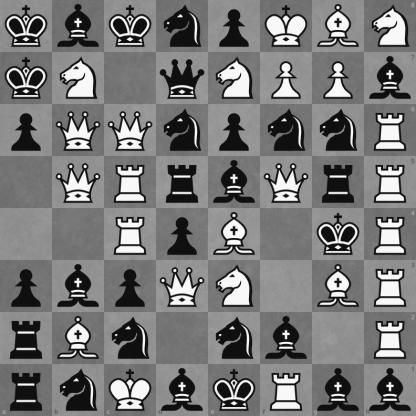B: (53, 313, 104, 364), (209, 209, 260, 260), (313, 1, 364, 52), (313, 261, 364, 312)
K: (104, 364, 156, 416), (261, 1, 312, 52)
N: (364, 0, 416, 52), (53, 53, 104, 104), (209, 53, 260, 104), (209, 261, 260, 312)
P: (261, 53, 312, 104), (313, 53, 364, 104)
Q: (53, 105, 104, 156), (53, 157, 104, 208), (105, 105, 156, 156), (157, 261, 208, 312), (261, 157, 312, 208)
R: (364, 156, 416, 209), (260, 364, 312, 416), (364, 104, 416, 156), (364, 260, 416, 312), (364, 312, 416, 364), (364, 209, 416, 260), (105, 157, 156, 208), (105, 209, 156, 260)
b: (156, 364, 209, 416), (312, 364, 364, 416), (364, 52, 416, 104), (364, 364, 416, 416), (53, 1, 104, 52), (53, 261, 104, 312), (209, 157, 260, 208), (261, 313, 312, 364)
board: (0, 0, 415, 415)
k: (209, 364, 260, 416), (1, 1, 52, 52), (1, 53, 52, 104), (105, 1, 156, 52), (313, 209, 364, 260)
n: (52, 364, 104, 416), (105, 313, 156, 364), (157, 1, 208, 52), (157, 105, 208, 156), (209, 313, 260, 364), (261, 105, 312, 156), (313, 105, 364, 156)
p: (1, 105, 52, 156), (1, 261, 52, 312), (105, 261, 156, 312), (157, 209, 208, 260), (209, 1, 260, 52), (209, 105, 260, 156)
q: (157, 53, 208, 104)
r: (0, 364, 52, 416), (1, 313, 52, 364), (157, 157, 208, 208), (313, 157, 364, 208)
